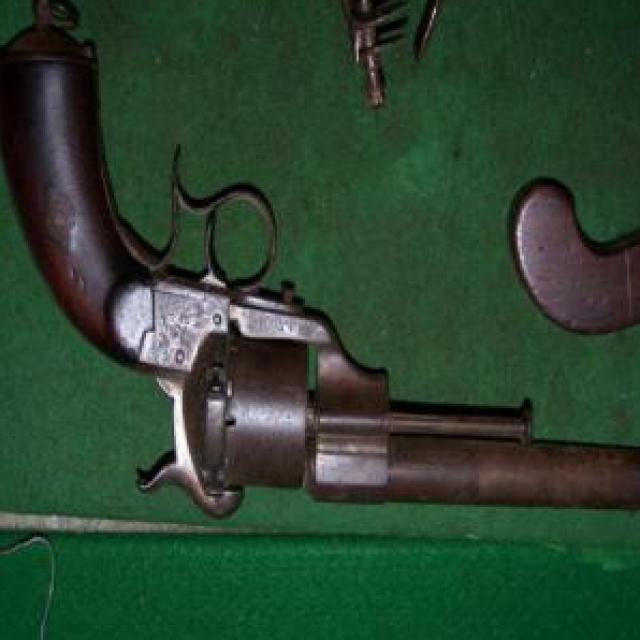pistol: (0, 39, 640, 524)
